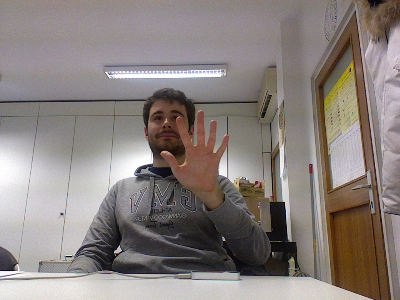布: (158, 109, 229, 192)
